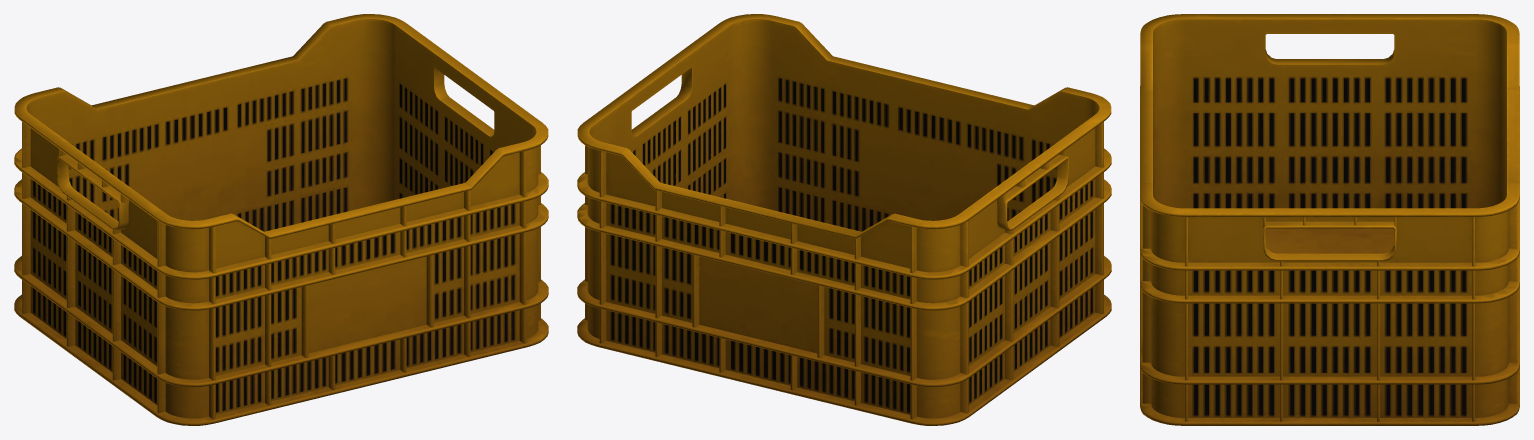
File: plastic_crate_02.glb
The picture shows the model from 3 angles, left to right: view 1: azimuth 30°, elevation 25°; view 2: azimuth 150°, elevation 25°; view 3: azimuth 270°, elevation 25°; orthographic projection. The views are drawn at different scales.
Visible parts, largest first — view 1: plastic_crate_02; view 2: plastic_crate_02; view 3: plastic_crate_02.
Boxes of the visible parts, left/top/right/bottom form: plastic_crate_02: left=14, top=14, right=548, bottom=425; plastic_crate_02: left=577, top=14, right=1111, bottom=425; plastic_crate_02: left=1140, top=14, right=1519, bottom=425.
Bounding box in the file's own units: 0.5055 × 0.2541 × 0.4055.
Materials: 1 (1 with a texture image).
